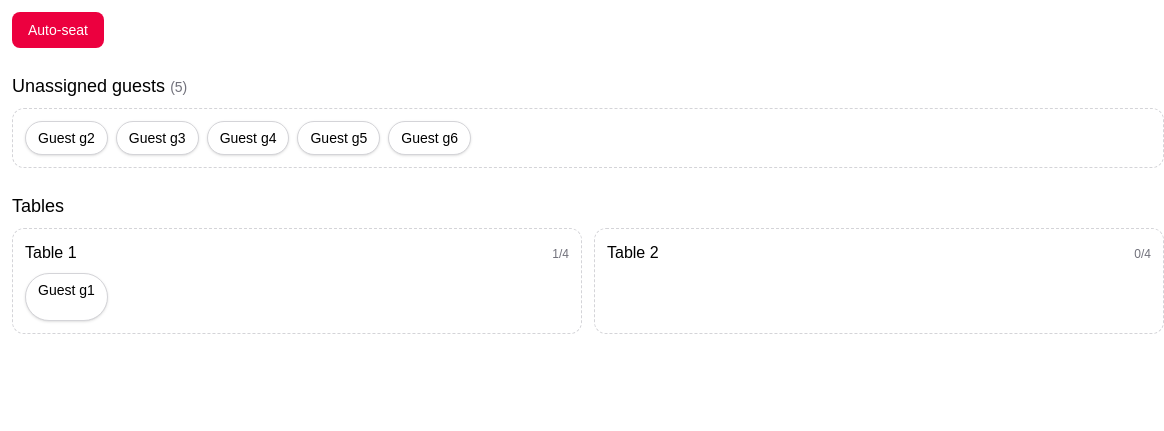
Test: <SeatingBoard /> auto-seat › running Auto-seat populates the board and shows a review banner with score and unseated count
Step 1. Click the button with test id "auto-seat-button" → (58, 30), box [12, 12, 104, 48]
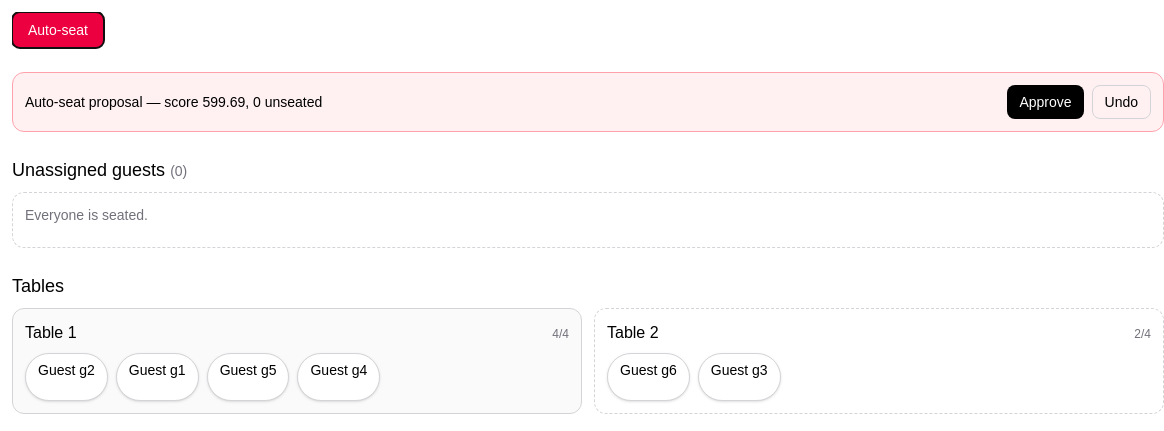
Expected: the message "Auto-seat proposal — score 599.69, 0 unseated Approve Undo" is shown, [12, 72, 1163, 132]
Expected: the text "599.69" is shown, [202, 94, 245, 110]
Expected: the text with test id "auto-seat-unseated-count" reads "0", [253, 94, 261, 110]
